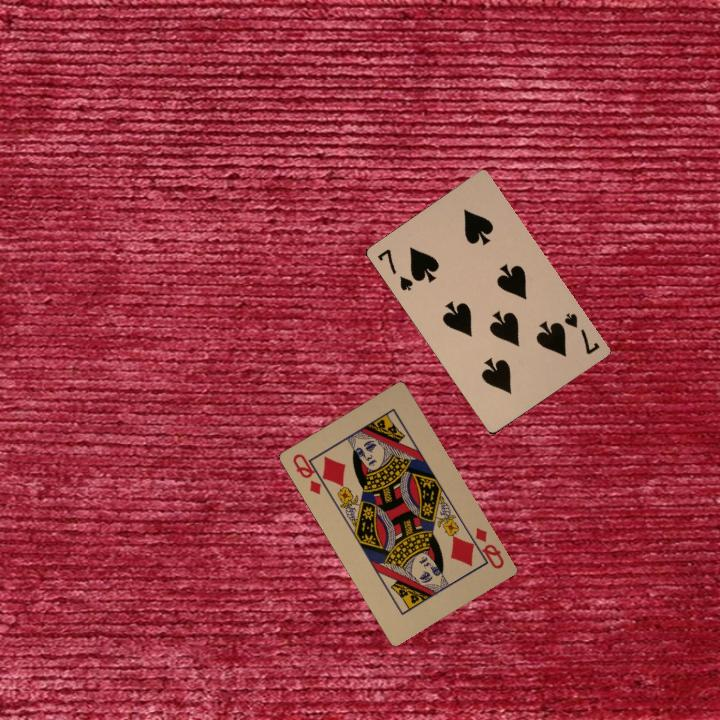7s: (373, 245, 416, 294), (560, 309, 602, 357)
Qd: (288, 449, 332, 497), (464, 524, 507, 572)
